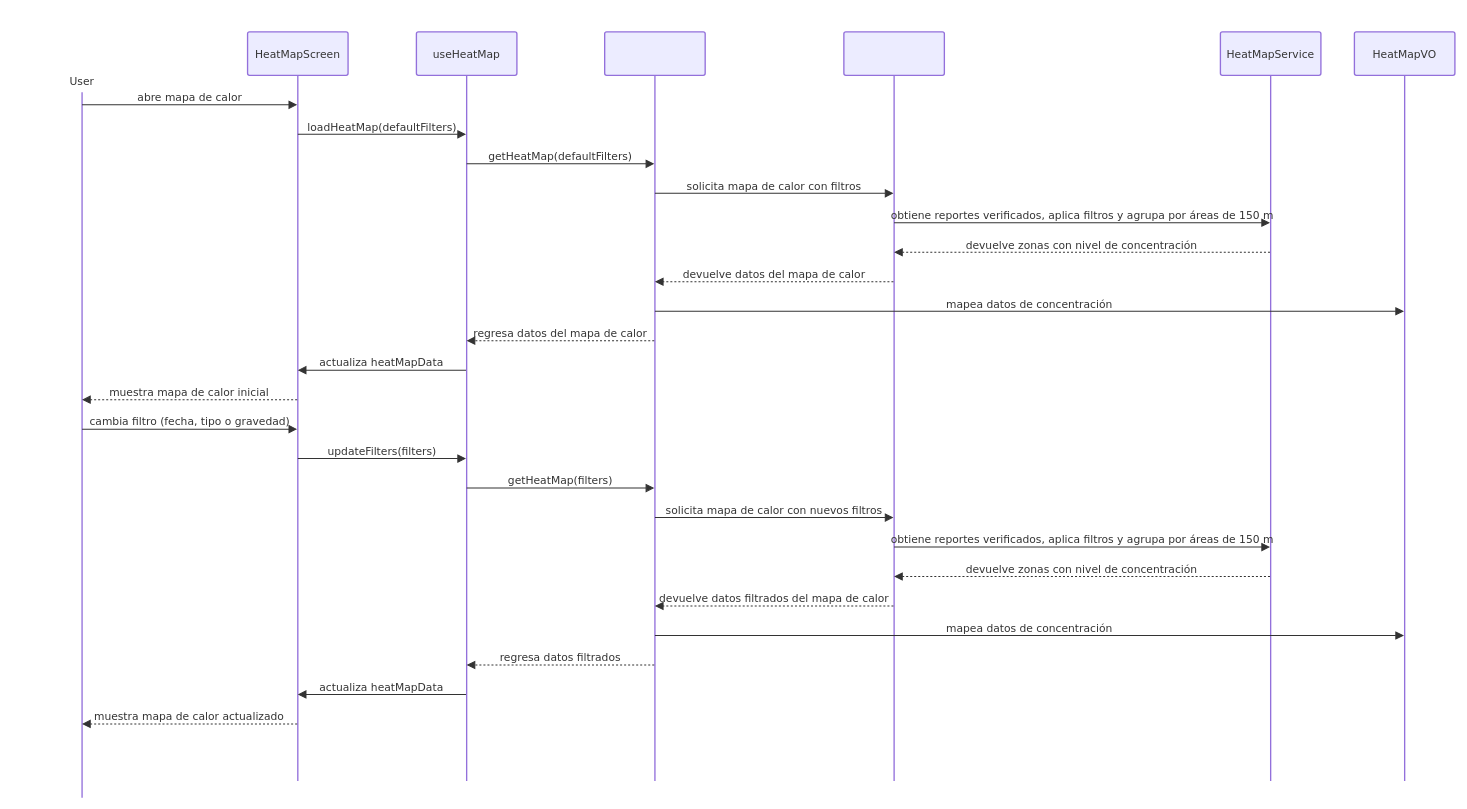
The diagram is 1467 pixels wide and 809 high, and some of its shapes have lost their labels. Here are the shapes that lost their labels. From the top down, the box of each, then its label:
(604, 31, 706, 781): HeatMapApiClient
(843, 31, 945, 781): HeatMapController
